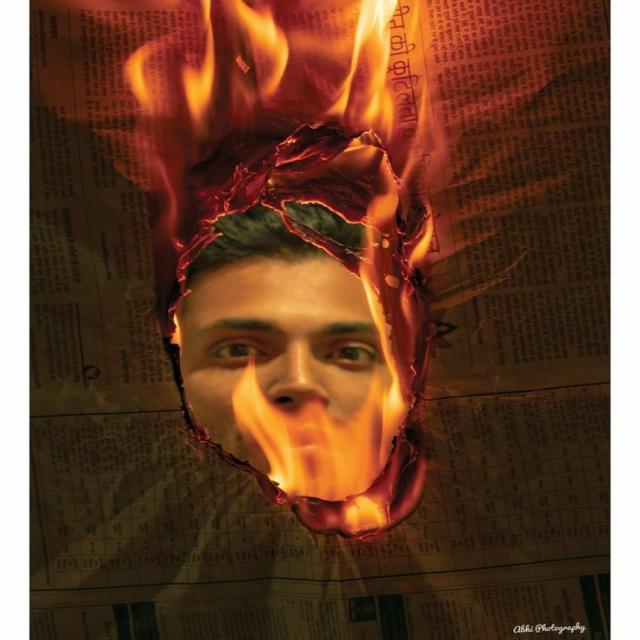Fire: (180, 0, 480, 538)
